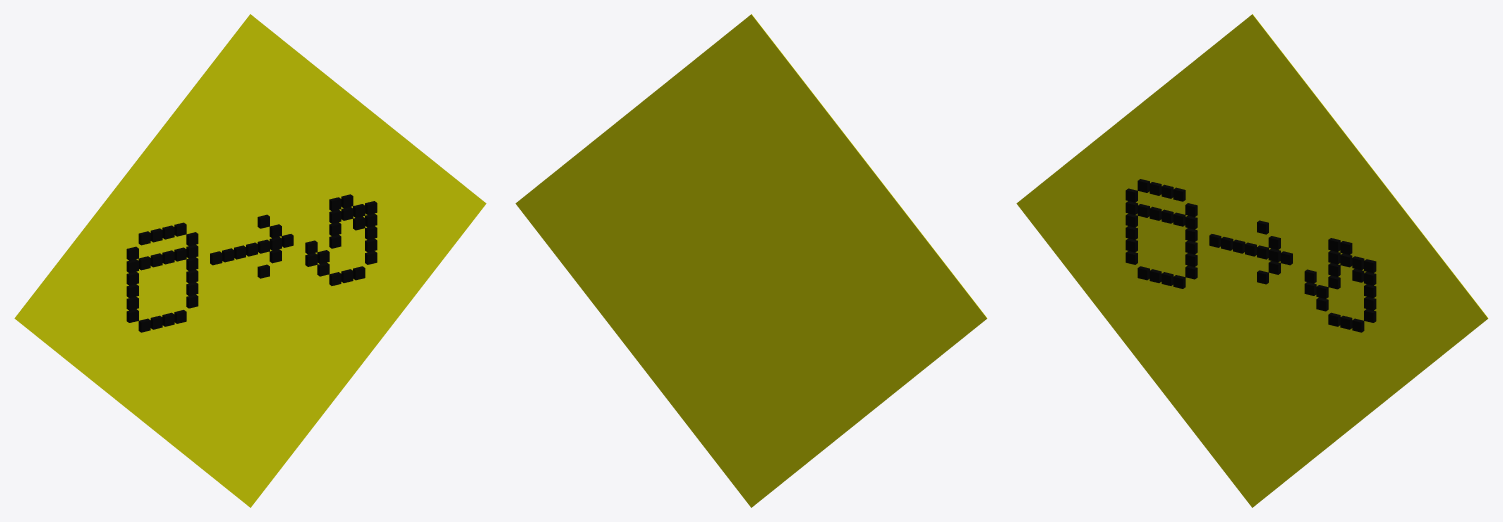
The model's file is ReturnTrashToHand.fbx.
3 renders of one model, left to right at view 1: azimuth 30°, elevation 25°; view 2: azimuth 150°, elevation 25°; view 3: azimuth 330°, elevation 25°, orthographic.
Parts seen in each view (by area): view 1: Cube.001; view 2: Cube.001; view 3: Cube.001.
Boxes of the visible parts, box(x1,y1,x2,y2) form: Cube.001: box(14, 14, 486, 507); Cube.001: box(515, 14, 987, 507); Cube.001: box(1016, 14, 1488, 507).
Bounding box in the file's own units: 198 × 198 × 2.1.
